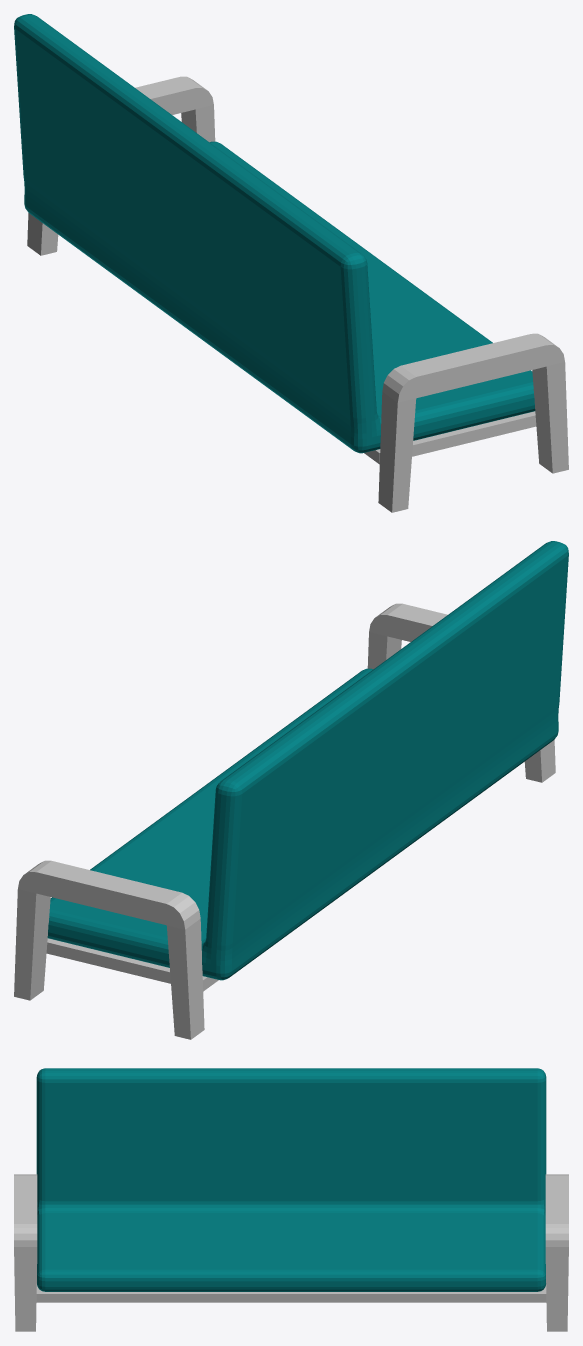
File: Sofa_2.fbx
3 views of the same model, one above another, from view 1: azimuth 30°, elevation 25°; view 2: azimuth 150°, elevation 25°; view 3: azimuth 270°, elevation 25° (orthographic). The views are drawn at different scales.
Parts seen in each view (by area): view 1: Sofa_2; view 2: Sofa_2; view 3: Sofa_2.
Boxes of the visible parts, left/top/right/bottom form: Sofa_2: left=14, top=14, right=568, bottom=512; Sofa_2: left=14, top=541, right=568, bottom=1039; Sofa_2: left=14, top=1068, right=568, bottom=1331.
Bounding box in the file's own units: 0.5437 × 0.6215 × 1.65.
